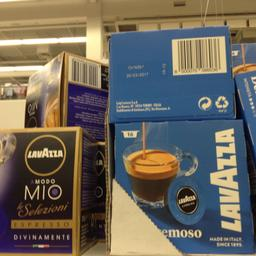coffee: (110, 118, 252, 255), (0, 124, 101, 254), (20, 50, 106, 126)
